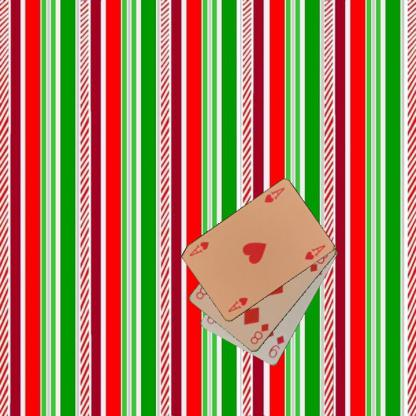8d: (247, 321, 270, 346)
9d: (266, 333, 286, 359)
Ah: (225, 294, 249, 314), (261, 185, 286, 204)
